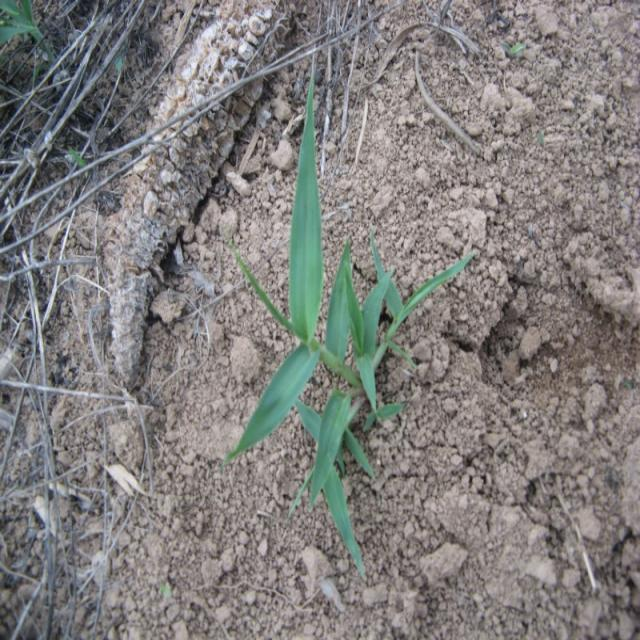bg: (229, 73, 481, 564)
